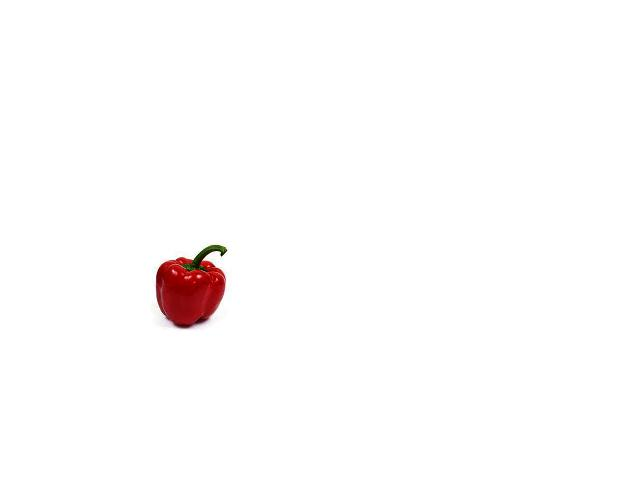bell_pepper: (150, 243, 230, 327)
